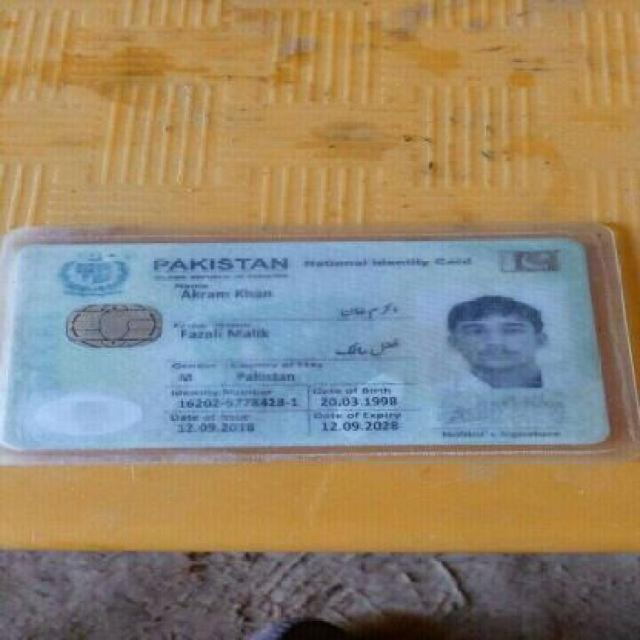Front: (6, 228, 619, 457)
